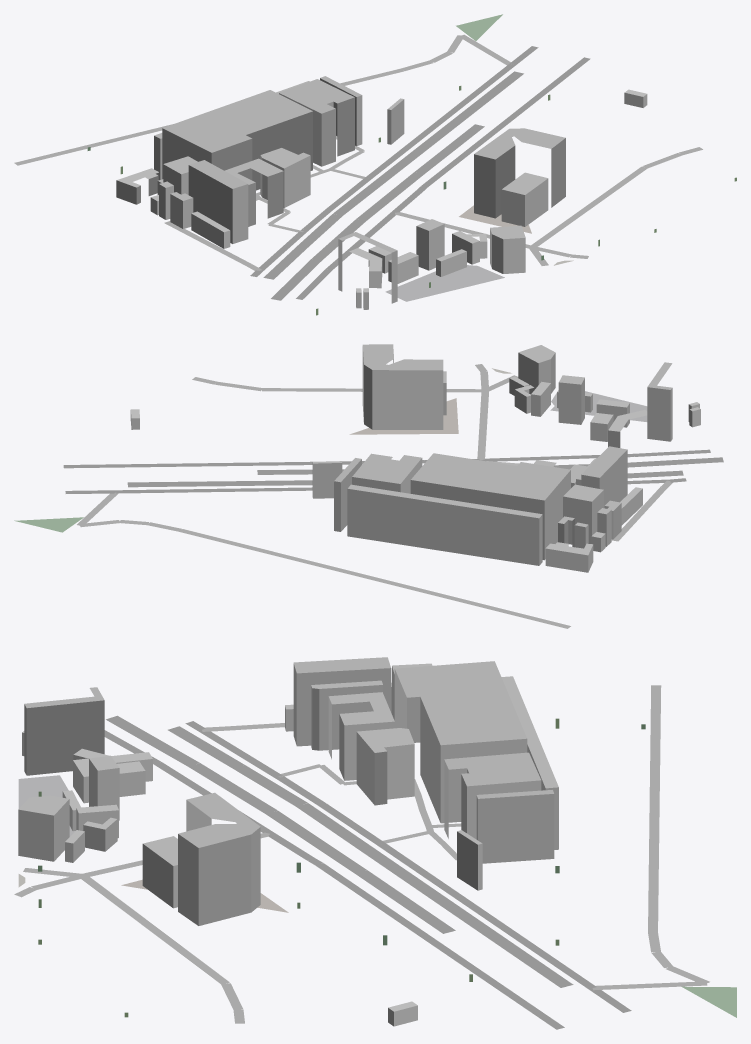
3 views of the same model, one above another, from view 1: azimuth 30°, elevation 25°; view 2: azimuth 150°, elevation 25°; view 3: azimuth 270°, elevation 25° (orthographic). The views are drawn at different scales.
Bounding box in the file's own units: 572 × 62.01 × 503.
